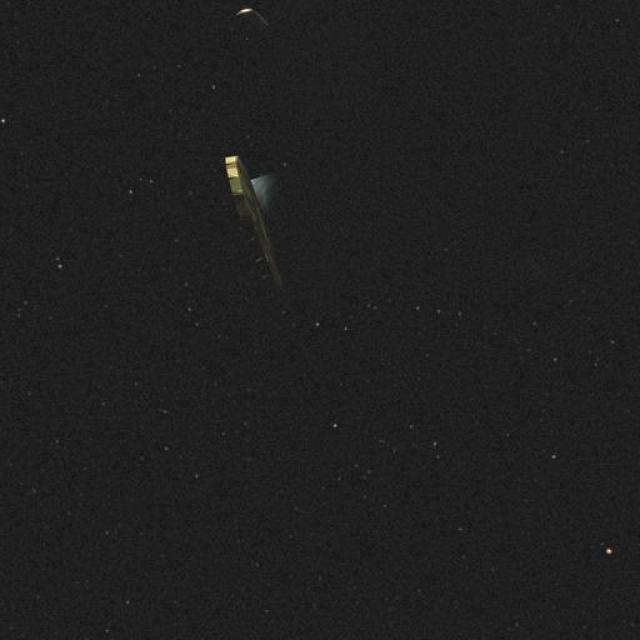cheops: (163, 0, 595, 355)
